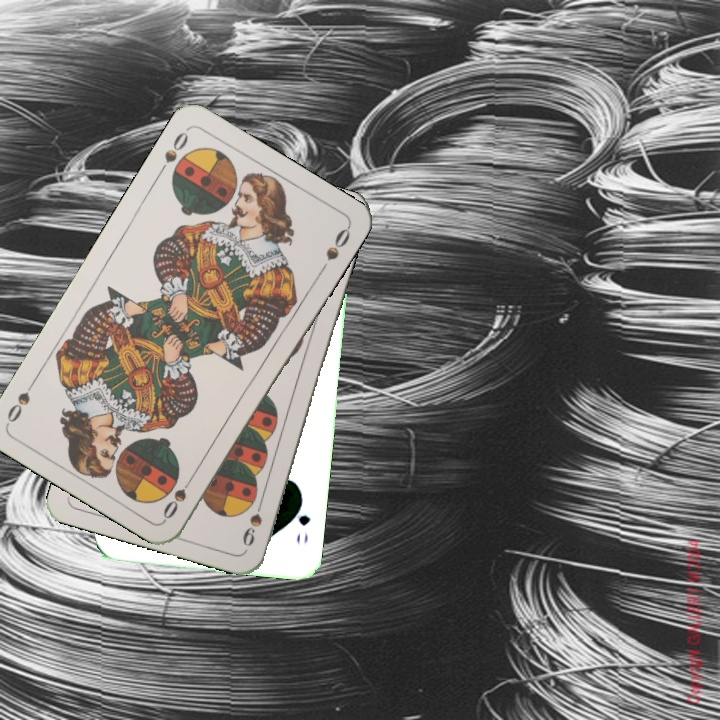GO: (290, 495, 313, 547)
S9: (238, 493, 267, 549)
SO: (159, 469, 198, 522), (154, 125, 191, 178)
